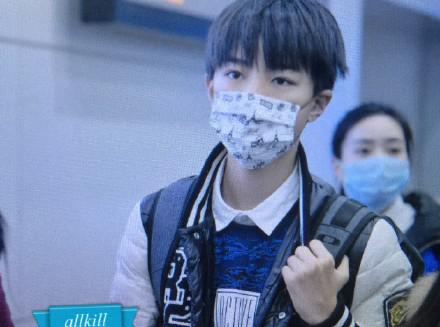OK: (211, 42, 311, 169), (344, 125, 407, 209)
